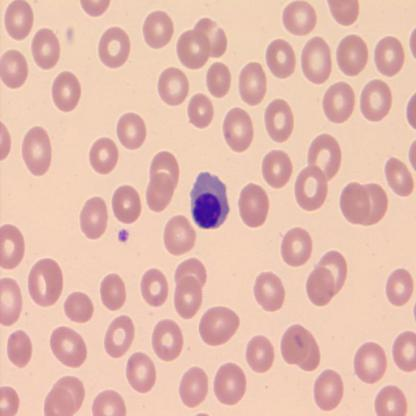NRC: (189, 171, 230, 230)
